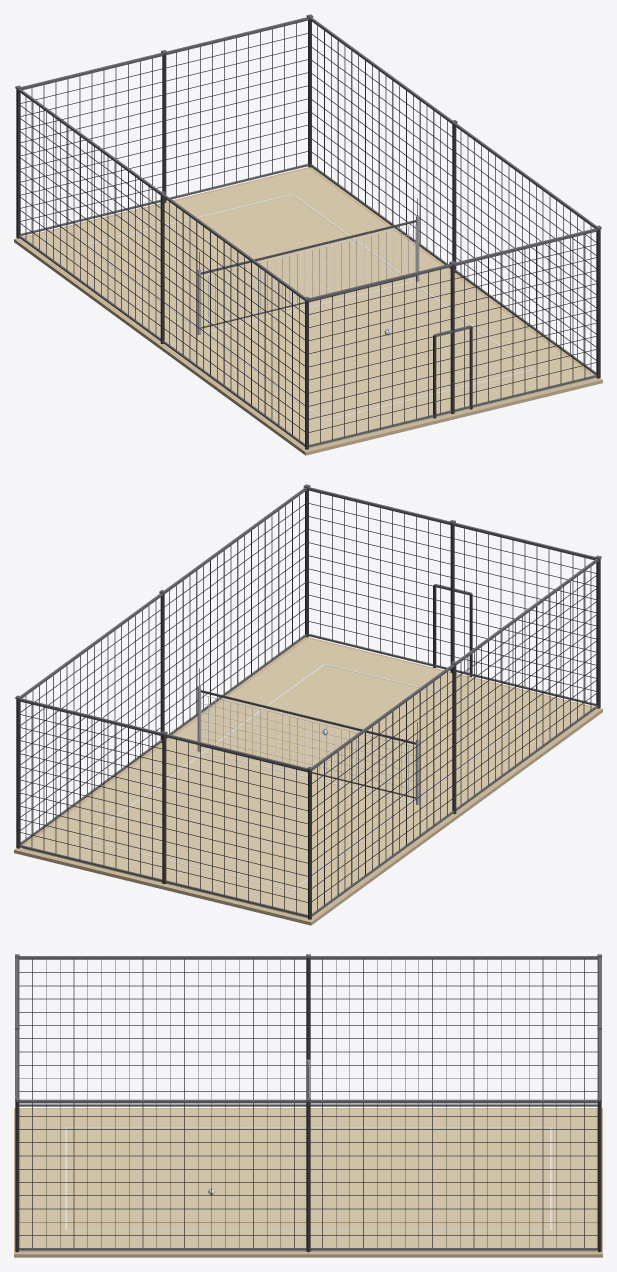
File: sand-volleyball-net-and-black-ball-net.glb
The picture shows the model from 3 angles, top to bottom: view 1: azimuth 30°, elevation 25°; view 2: azimuth 150°, elevation 25°; view 3: azimuth 270°, elevation 25°; orthographic projection.
Parts seen in each view (by area): view 1: SVN_SandPit, SVN_BermW, SVN_BermS, SVN_RailW, SVN_RailE, SVN_RailN, SVN_RailS, SVN_BermE, SVN_BotRailW, SVN_BotRailE, SVN_BotRailS, SVN_BotRailN (+10 smaller); view 2: SVN_SandPit, SVN_BermW, SVN_BermN, SVN_RailW, SVN_RailE, SVN_RailS, SVN_RailN, SVN_BermE, SVN_BotRailW, SVN_BotRailE, SVN_BotRailN, SVN_BotRailS (+10 smaller); view 3: SVN_SandPit, SVN_BermE, SVN_RailW, SVN_RailE, SVN_BotRailE, SVN_BotRailW, SVN_BlkWH9, SVN_BlkEH3, SVN_BlkWH8, SVN_BlkEH7, SVN_BlkWH4, SVN_LineW (+27 smaller).
Part boxes in pixels (x1,y1,x2,y2): SVN_SandPit: (24,168,593,448); SVN_BermW: (17,240,304,452); SVN_BermS: (302,378,602,455); SVN_RailW: (18,89,304,300); SVN_RailE: (310,17,596,228); SVN_RailN: (21,17,309,89); SVN_RailS: (309,228,597,301); SVN_BermE: (311,169,596,378); SVN_BotRailW: (18,235,304,446); SVN_BotRailE: (310,164,596,374); SVN_BotRailS: (309,375,597,447); SVN_BotRailN: (20,164,308,235); SVN_SandPit: (23,638,592,918); SVN_BermW: (312,710,599,922); SVN_BermN: (14,848,314,925); SVN_RailW: (312,559,598,770); SVN_RailE: (20,487,306,698); SVN_RailS: (307,487,595,559); SVN_RailN: (19,698,307,771); SVN_BermE: (20,639,305,848); SVN_BotRailW: (312,705,598,916); SVN_BotRailE: (20,634,306,844); SVN_BotRailN: (19,845,307,917); SVN_BotRailS: (308,634,596,705); SVN_SandPit: (20,1109,596,1251); SVN_BermE: (20,1251,596,1257); SVN_RailW: (19,956,597,959); SVN_RailE: (19,1099,597,1102); SVN_BotRailE: (19,1248,597,1250); SVN_BotRailW: (19,1104,597,1106); SVN_BlkWH9: (19,985,597,986); SVN_BlkEH3: (19,1208,597,1209); SVN_BlkWH8: (19,998,597,999); SVN_BlkEH7: (19,1155,597,1156); SVN_BlkWH4: (19,1051,597,1052); SVN_LineW: (66,1127,550,1128).
Bounding box in the file's own units: 11.44 × 5.73 × 19.44.
